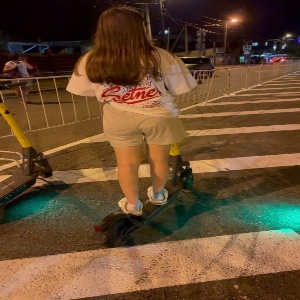human on a scooter: (64, 6, 202, 248)
